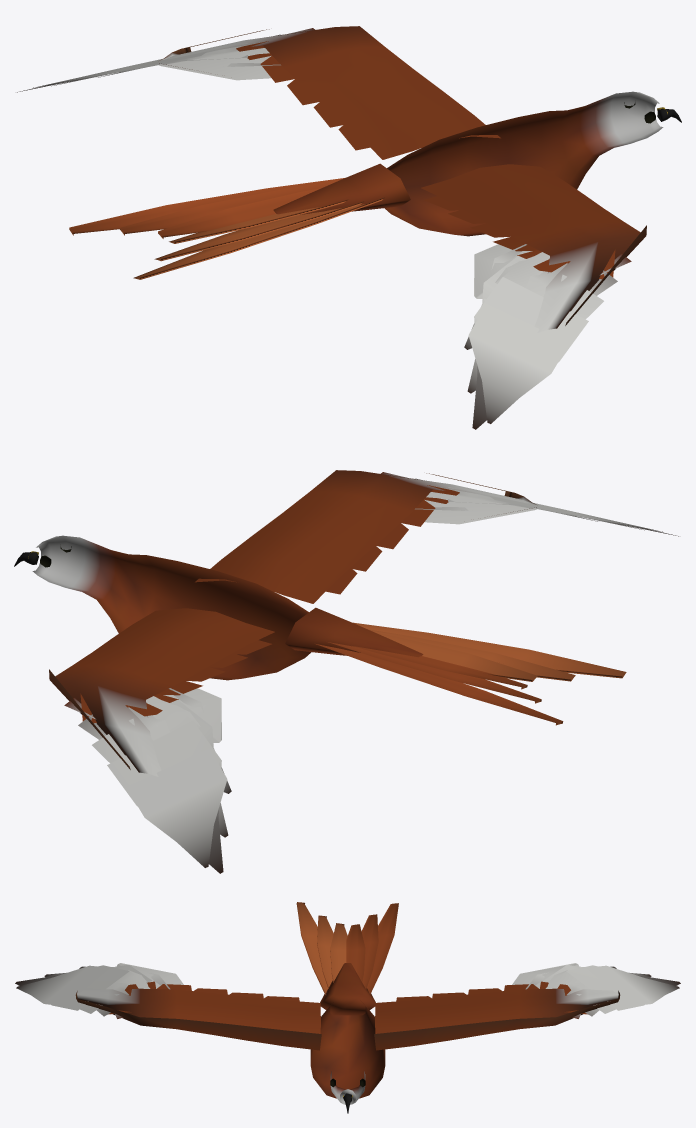
Rendered from SM_Bird_red_kite_flap3_LOD1.glb.
The picture shows the model from 3 angles, top to bottom: view 1: azimuth 30°, elevation 25°; view 2: azimuth 150°, elevation 25°; view 3: azimuth 270°, elevation 25°; orthographic projection. The views are drawn at different scales.
Visible parts, largest first — view 1: SM_Bird_red_kite_flap3_LOD1; view 2: SM_Bird_red_kite_flap3_LOD1; view 3: SM_Bird_red_kite_flap3_LOD1.
Part boxes in pixels (box(x1,y1,x2,y2)): SM_Bird_red_kite_flap3_LOD1: box(17, 26, 681, 429); SM_Bird_red_kite_flap3_LOD1: box(14, 470, 678, 873); SM_Bird_red_kite_flap3_LOD1: box(15, 902, 680, 1113).
Bounding box in the file's own units: 0.8125 × 0.1457 × 1.12.
